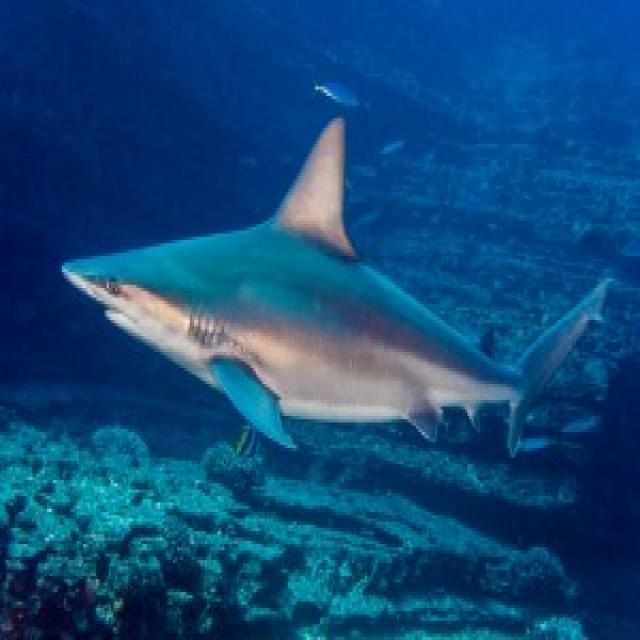Shark: (53, 116, 612, 467)
